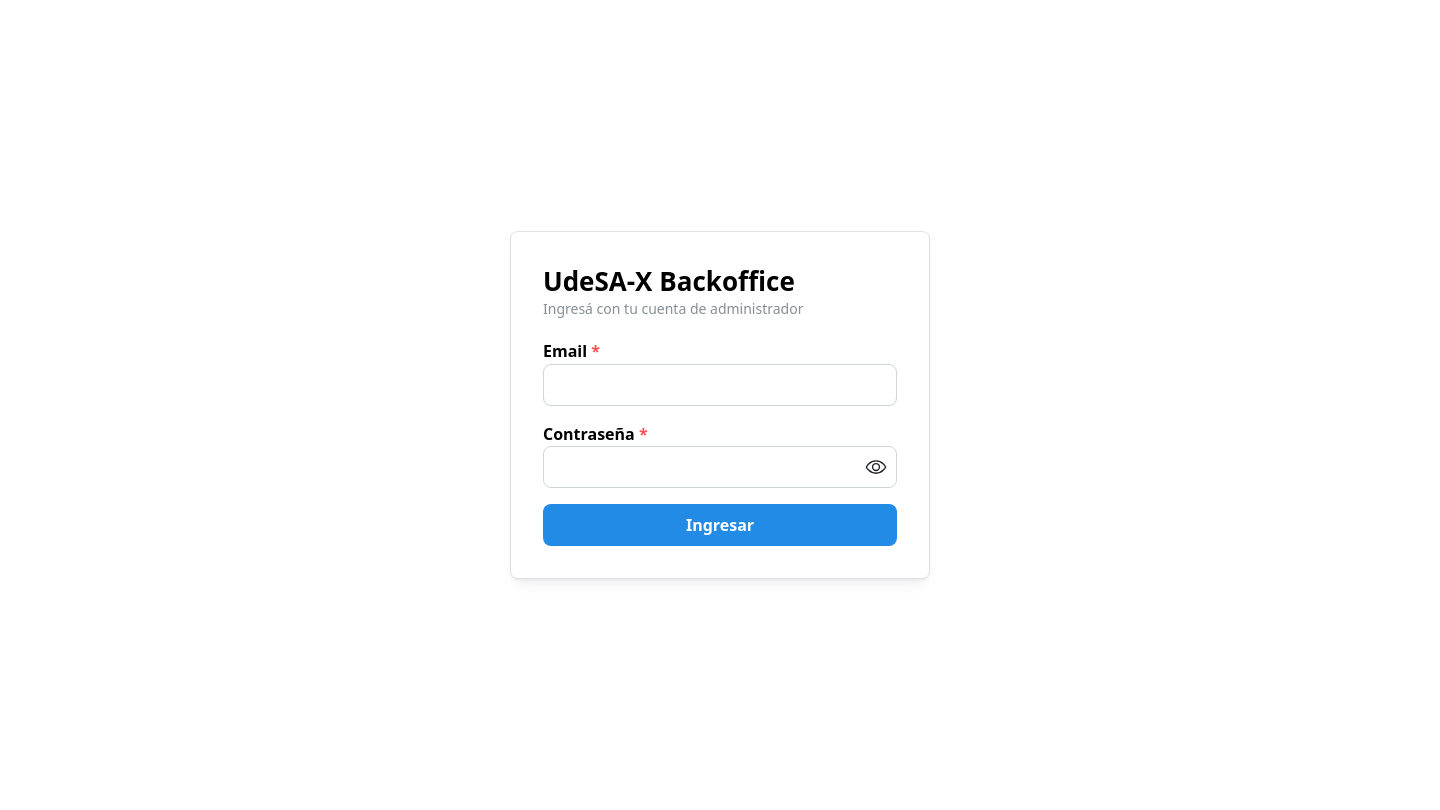
LoginPage › signs in and lands on the page the visitor was heading to
This screenshot has width=1440, height=810.
expect the button "Ingresar" is shown: met, box [543,504,897,546]
Type "admin@udesa.edu.ar" into the field labelled "Email *" at (720, 385), box [543,364,897,406]
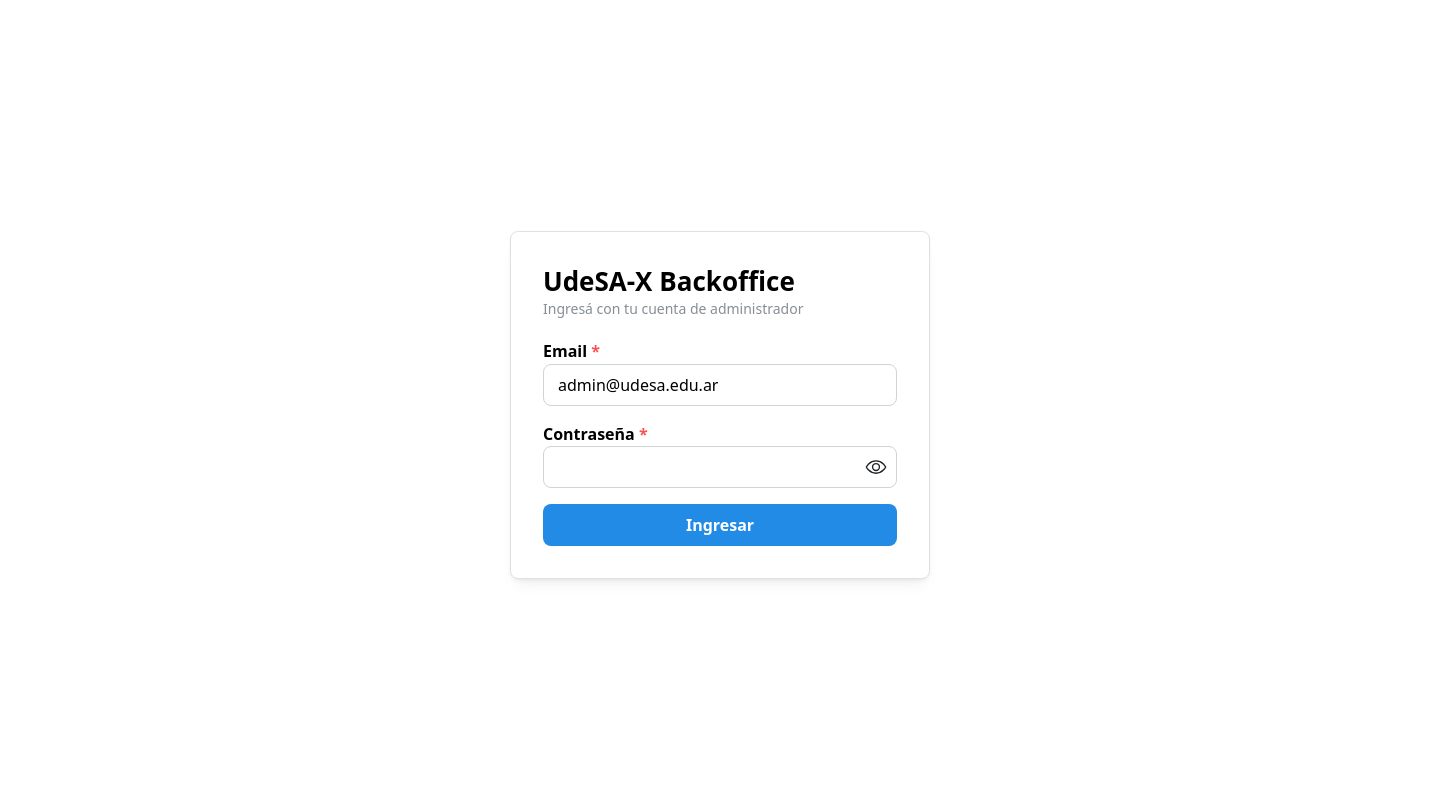
Type "Admin1234" into the password field labelled "Contraseña *" at (720, 468), box [544,448,896,488]
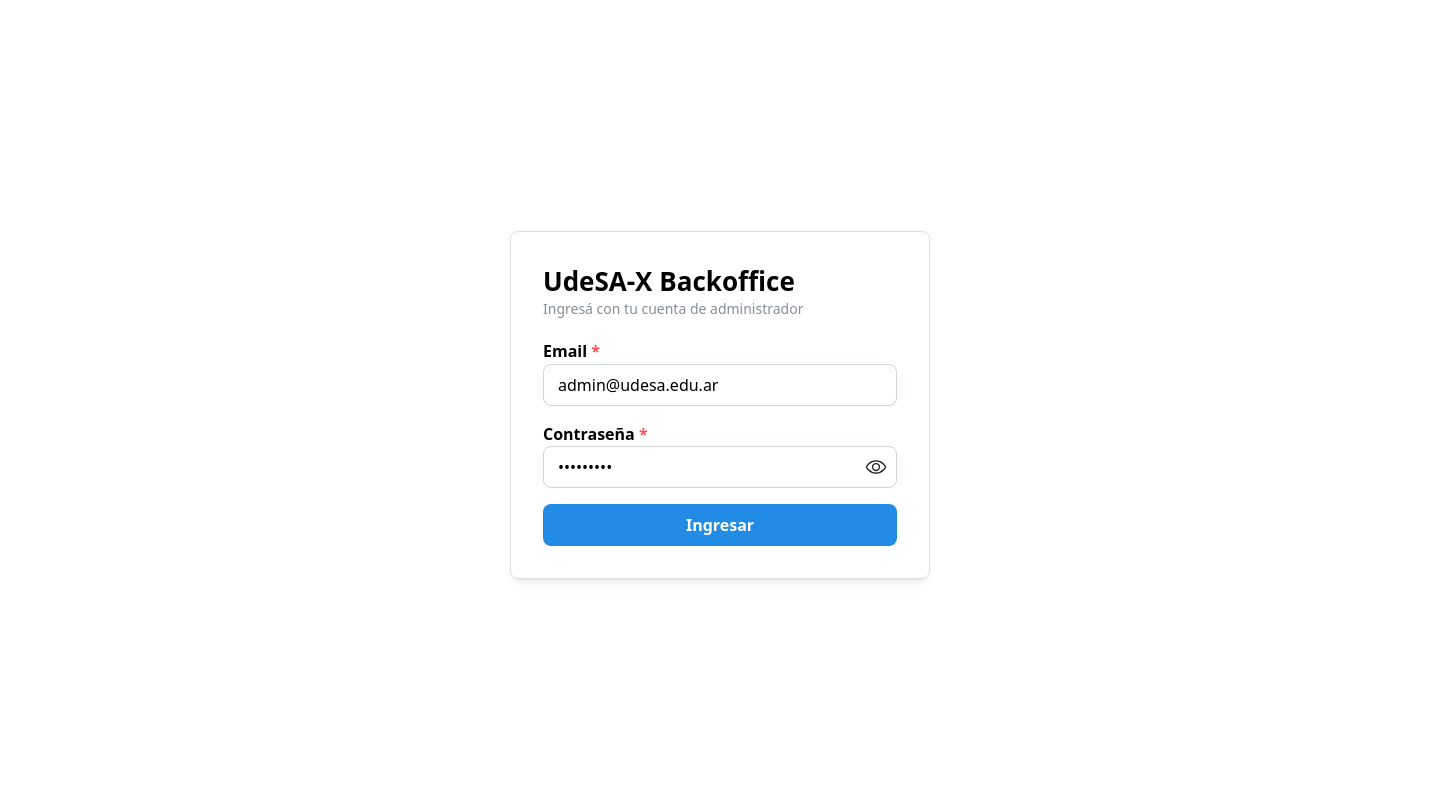
Click the button "Ingresar" at (720, 526), box [543,504,897,546]
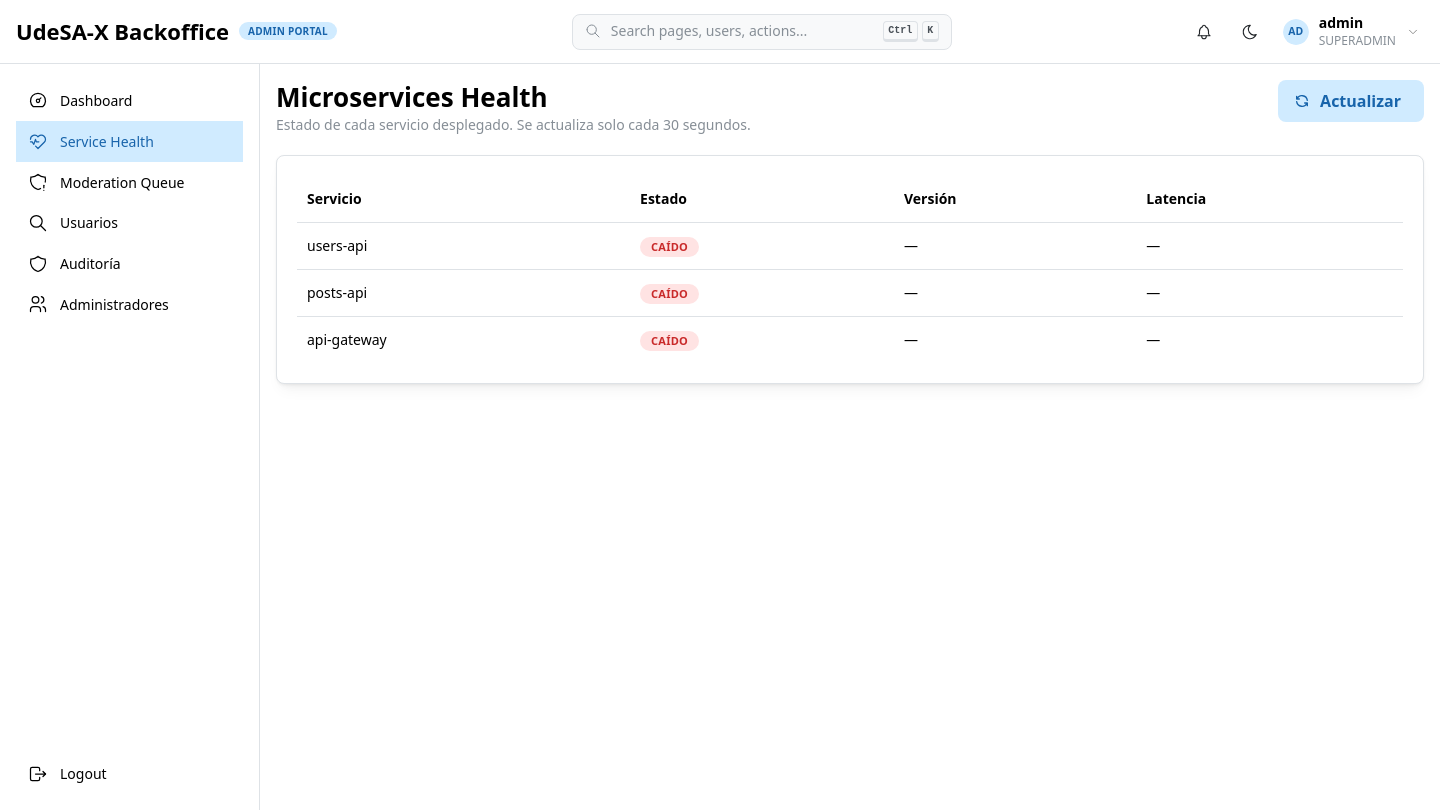
expect the heading "Microservices Health" is shown: met, box [276,79,548,115]
